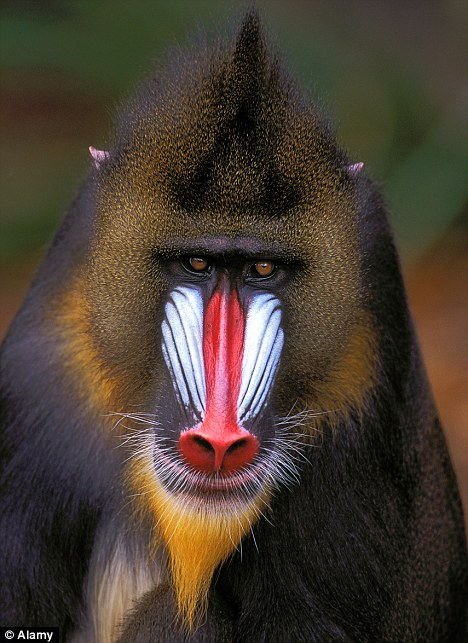Mandrill: (34, 25, 440, 597)
